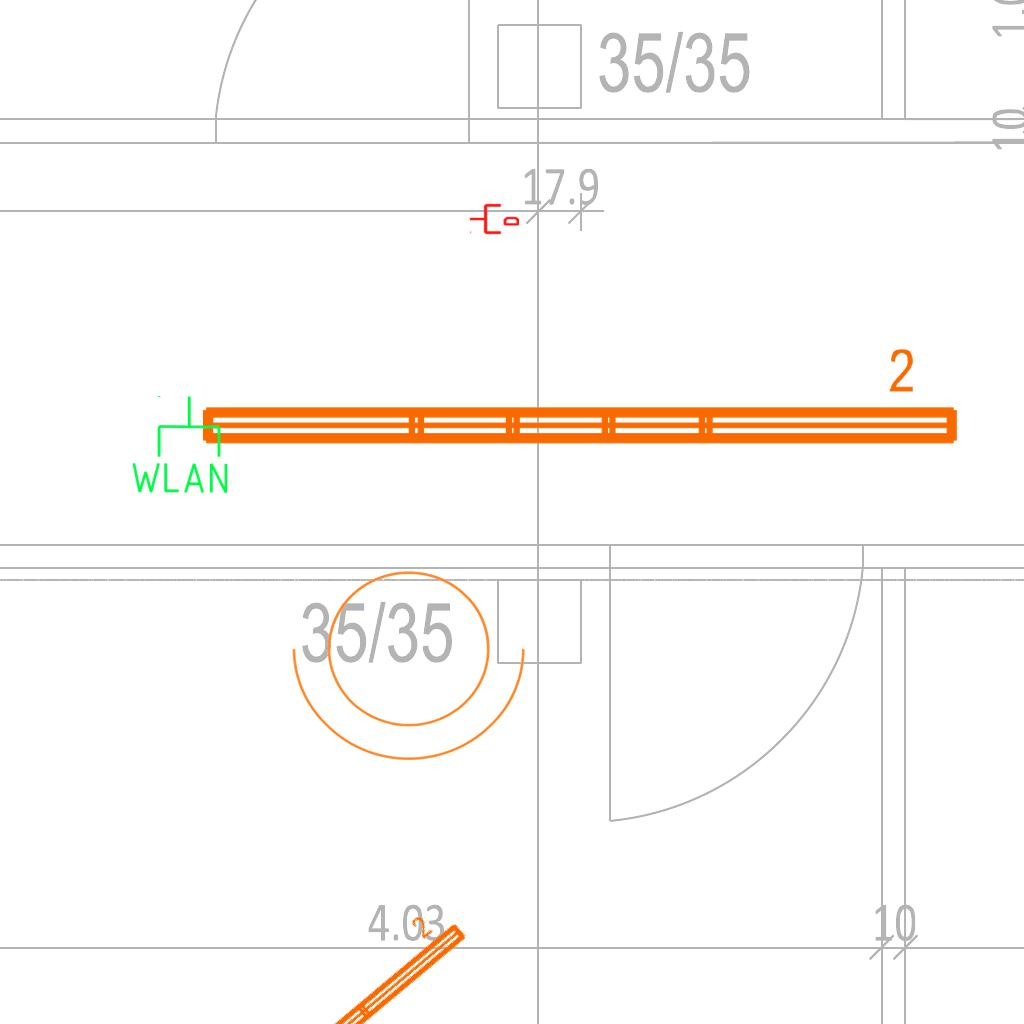Ambulanz_Pendelleuchte_LED: (192, 344, 966, 456), (141, 896, 474, 1024)
Datenanschluss_einfach: (469, 202, 519, 236)
Scheinwerfer_fuer_Alarmbeleuchtung: (283, 546, 547, 771)
WLAN: (127, 393, 232, 497)
